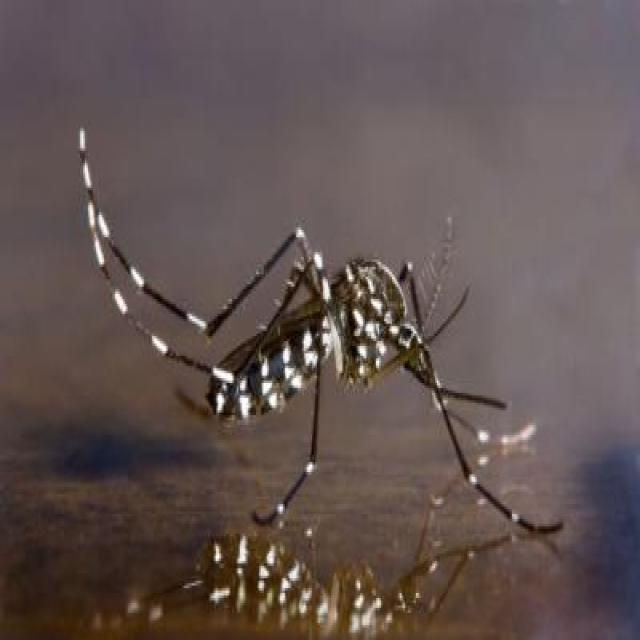antennae: (413, 210, 460, 336)
body: (208, 253, 422, 420)
insect: (76, 123, 566, 548)
legs: (74, 124, 324, 380), (414, 337, 566, 540), (251, 334, 328, 527)
wings: (207, 289, 324, 376)
